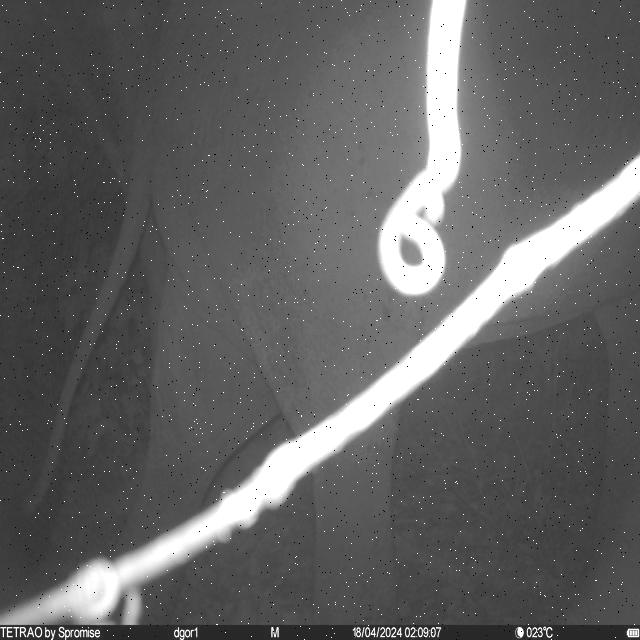elephant: (21, 0, 640, 623)
